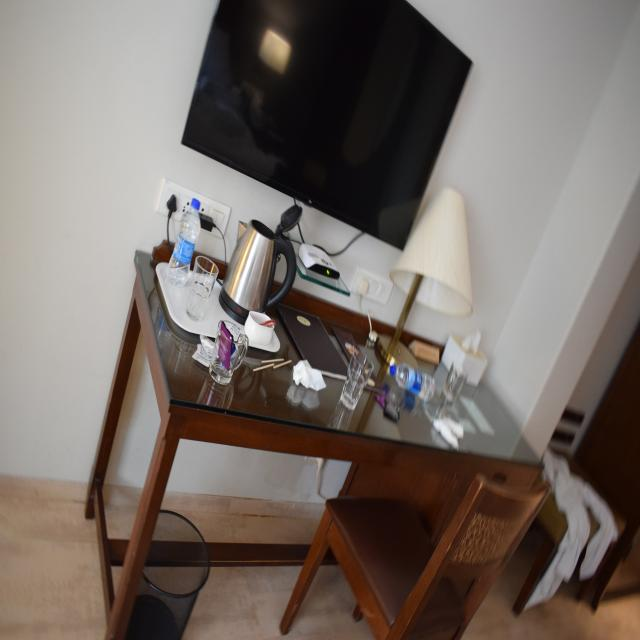mess: (126, 187, 542, 474), (542, 444, 640, 628)
